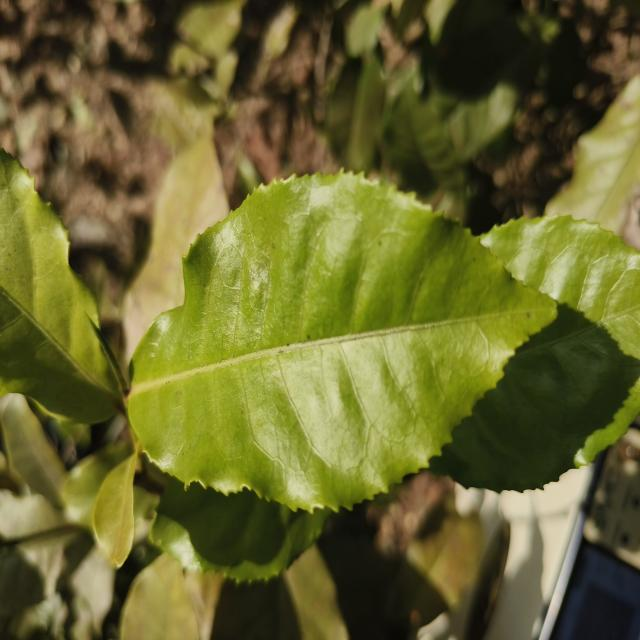Leaf: (129, 173, 556, 510), (430, 216, 640, 491), (0, 149, 122, 422), (124, 134, 229, 357), (151, 477, 332, 582), (545, 75, 640, 251), (0, 489, 93, 618), (383, 81, 453, 194), (0, 394, 66, 506), (325, 54, 385, 172), (120, 554, 198, 640), (169, 0, 246, 76), (93, 452, 137, 567), (36, 609, 66, 638)
